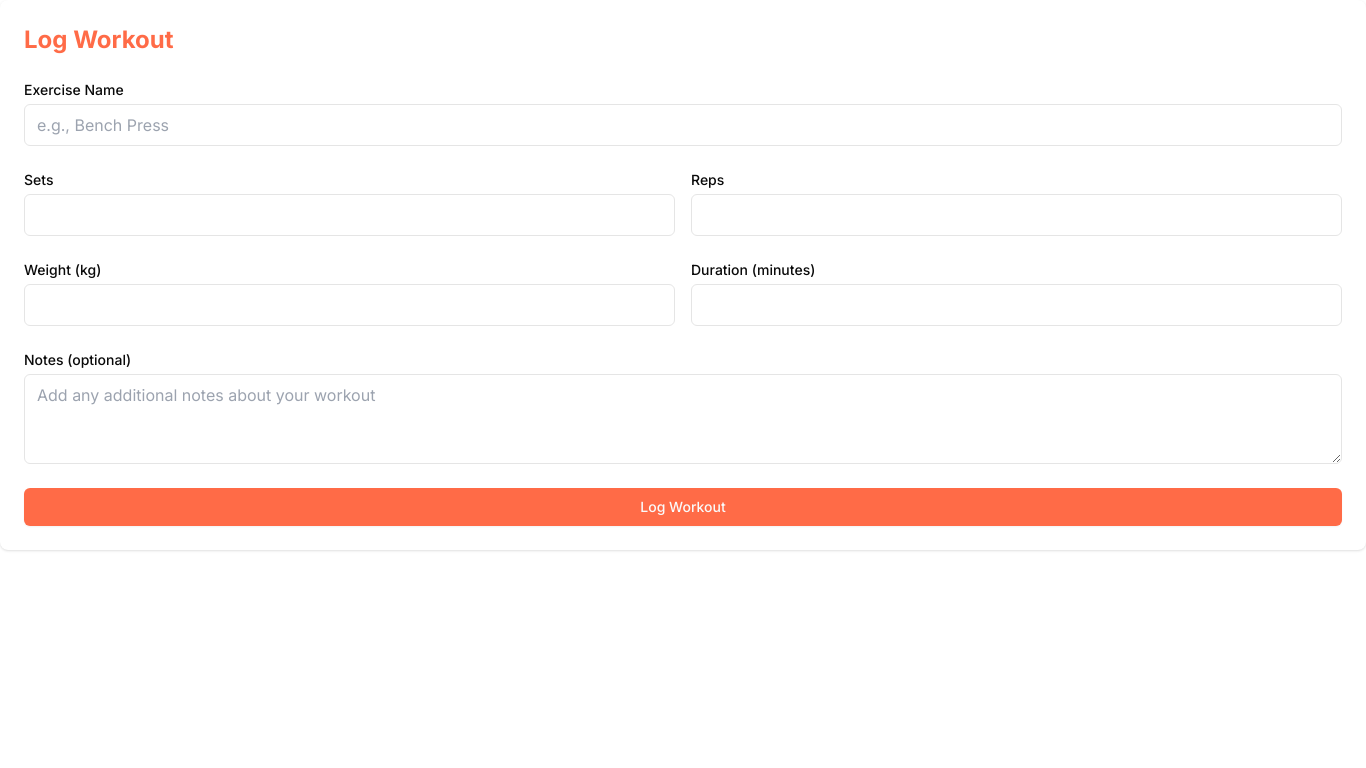
Scenario: WorkoutLog › handles successful form submission
In the field labelled "Exercise Name": [683, 125] box [24,104,1342,146], type "Bench Press"
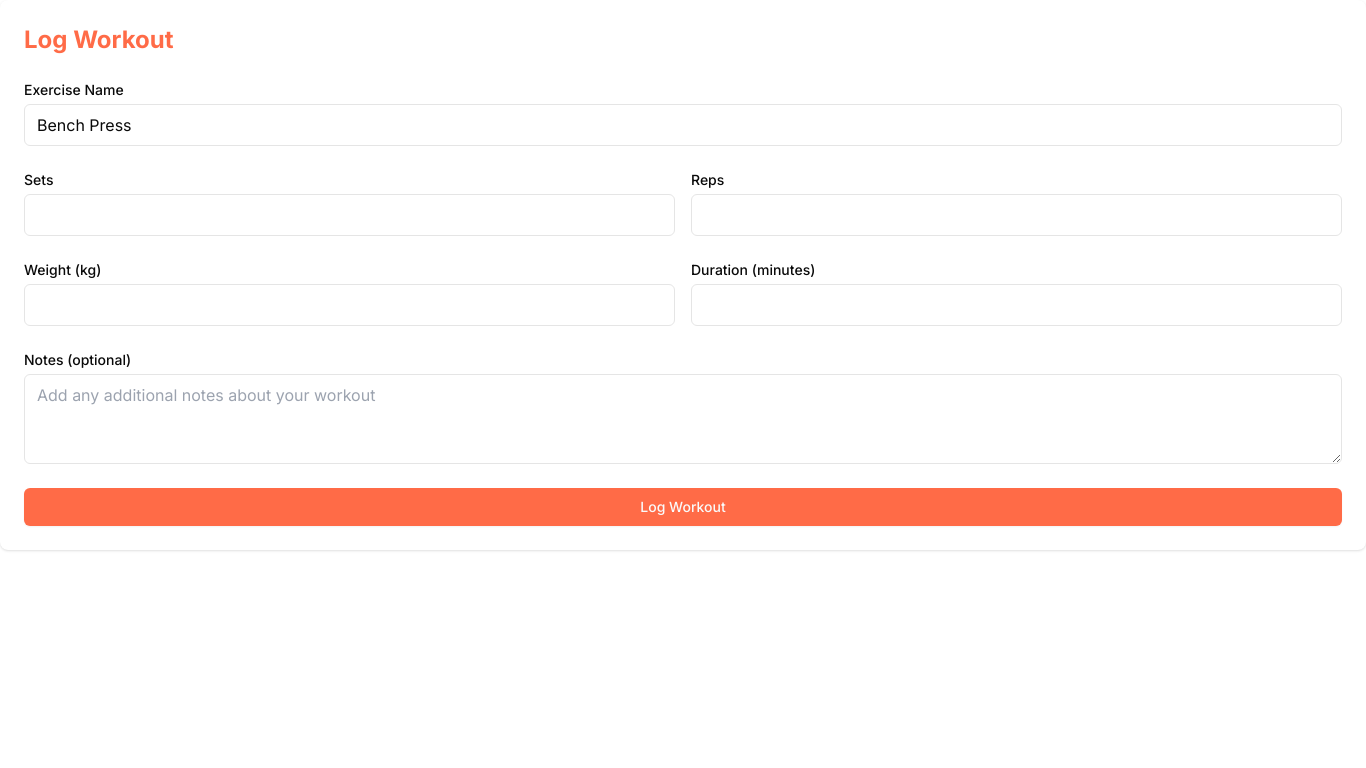
In the number field labelled "Sets": [350, 215] box [24,194,675,236], type "3"
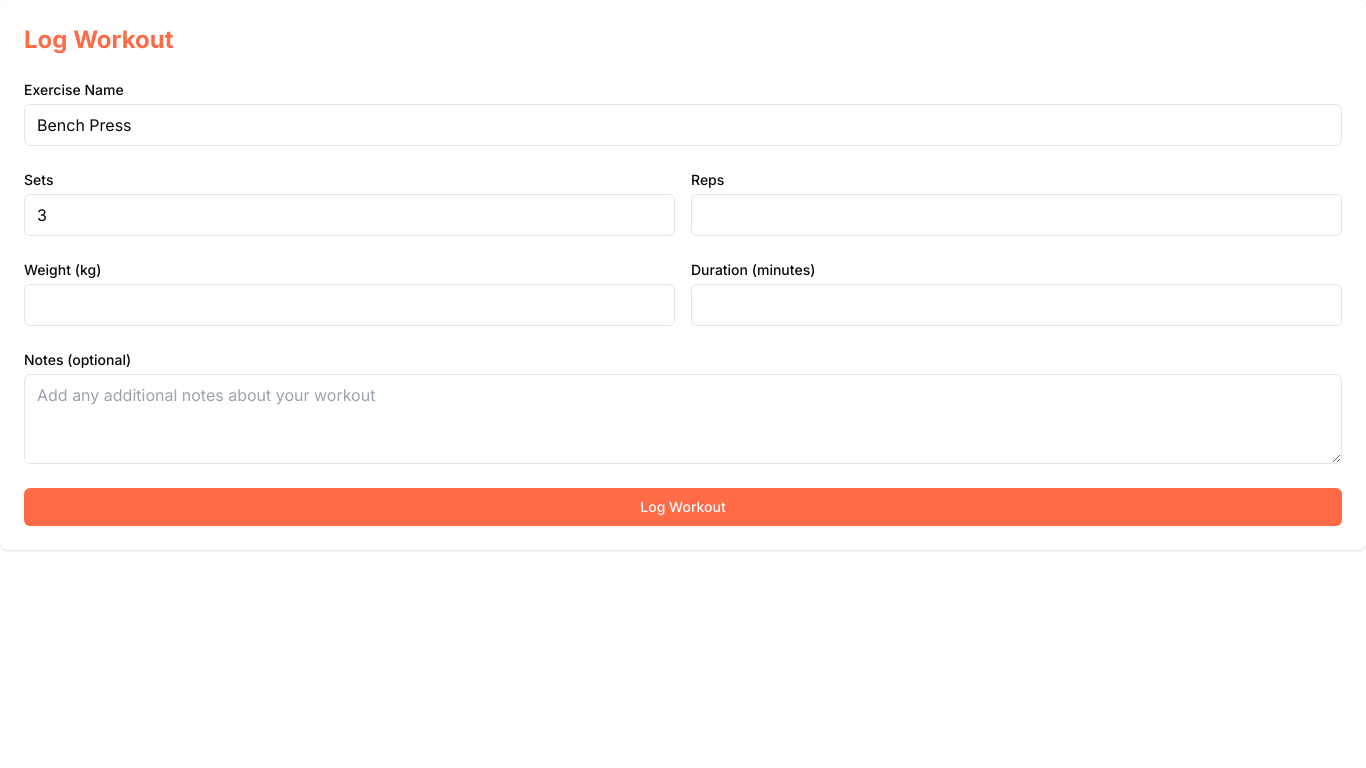
In the number field labelled "Reps": [1016, 215] box [691,194,1342,236], type "10"
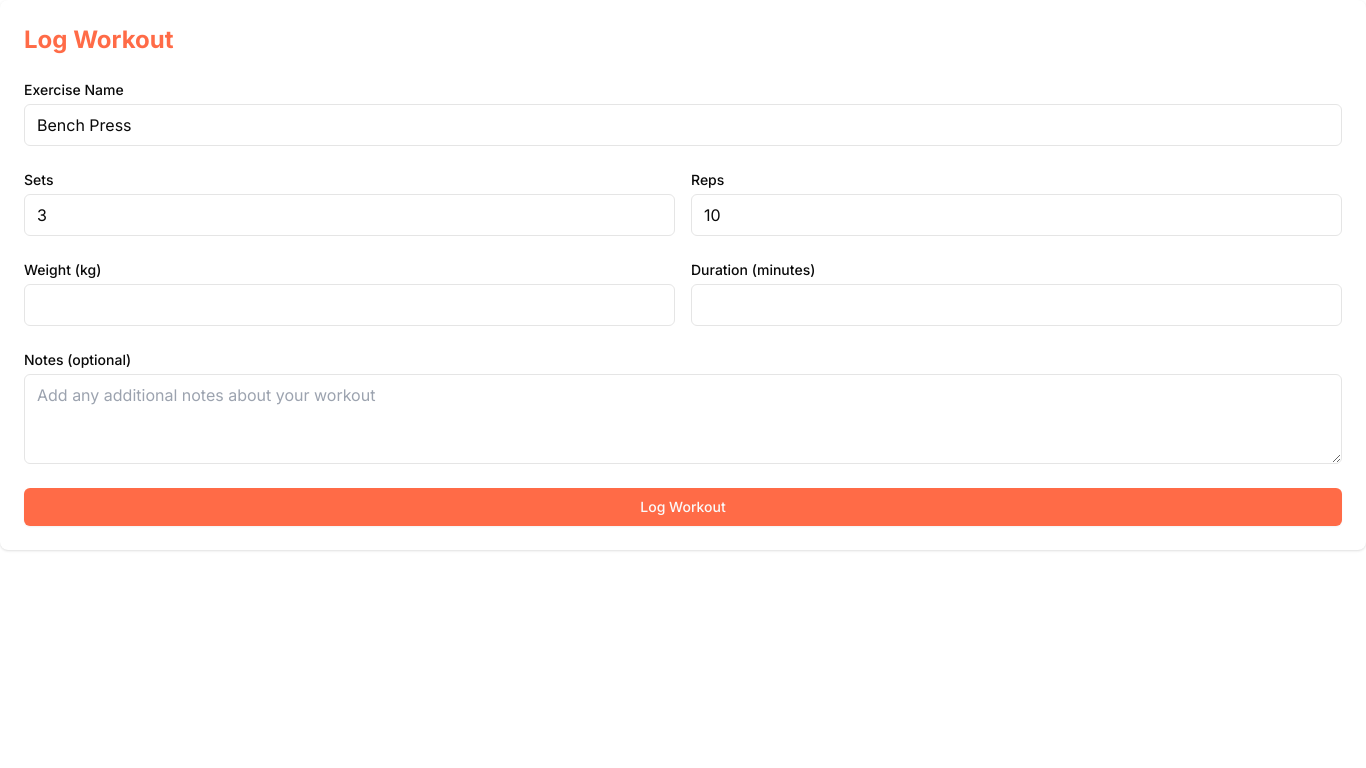
In the number field labelled "Weight (kg)": [350, 305] box [24,284,675,326], type "100"
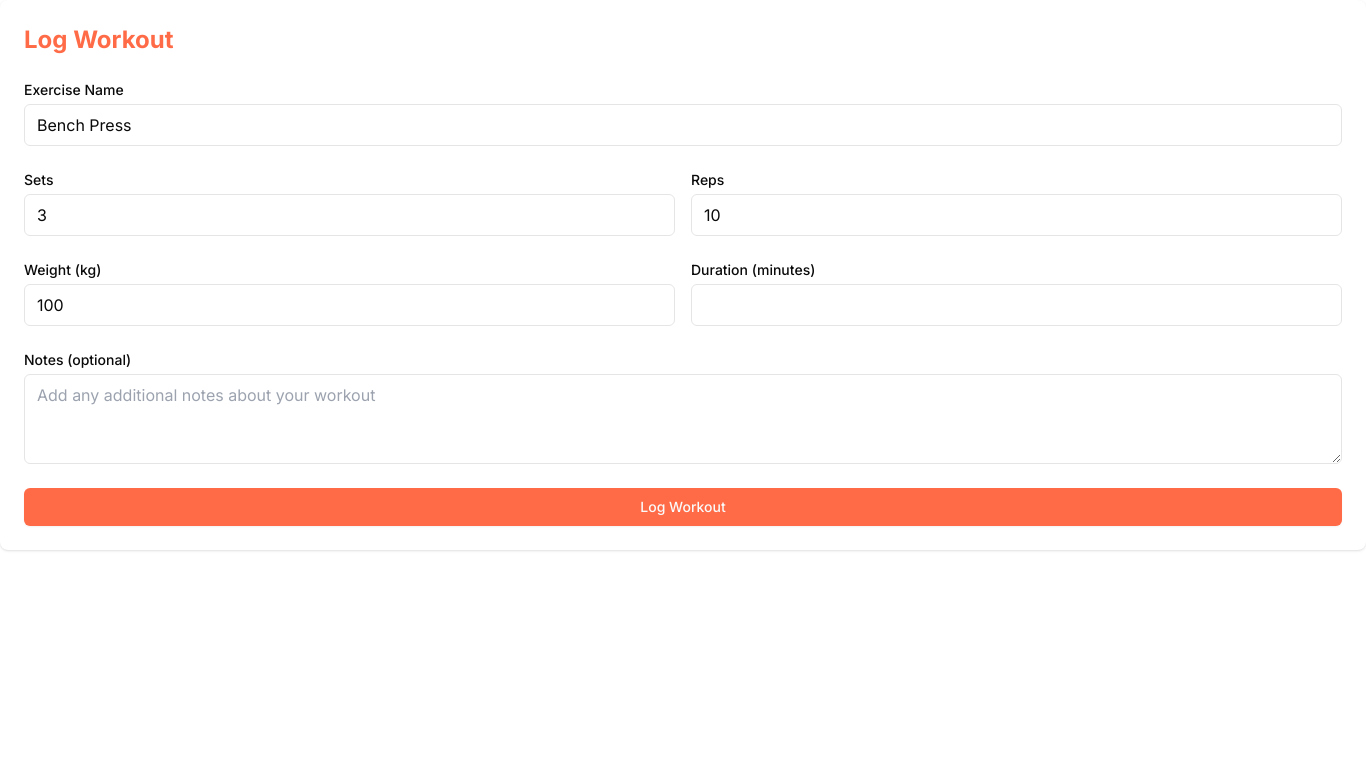
In the number field labelled "Duration (minutes)": [1016, 305] box [691,284,1342,326], type "30"
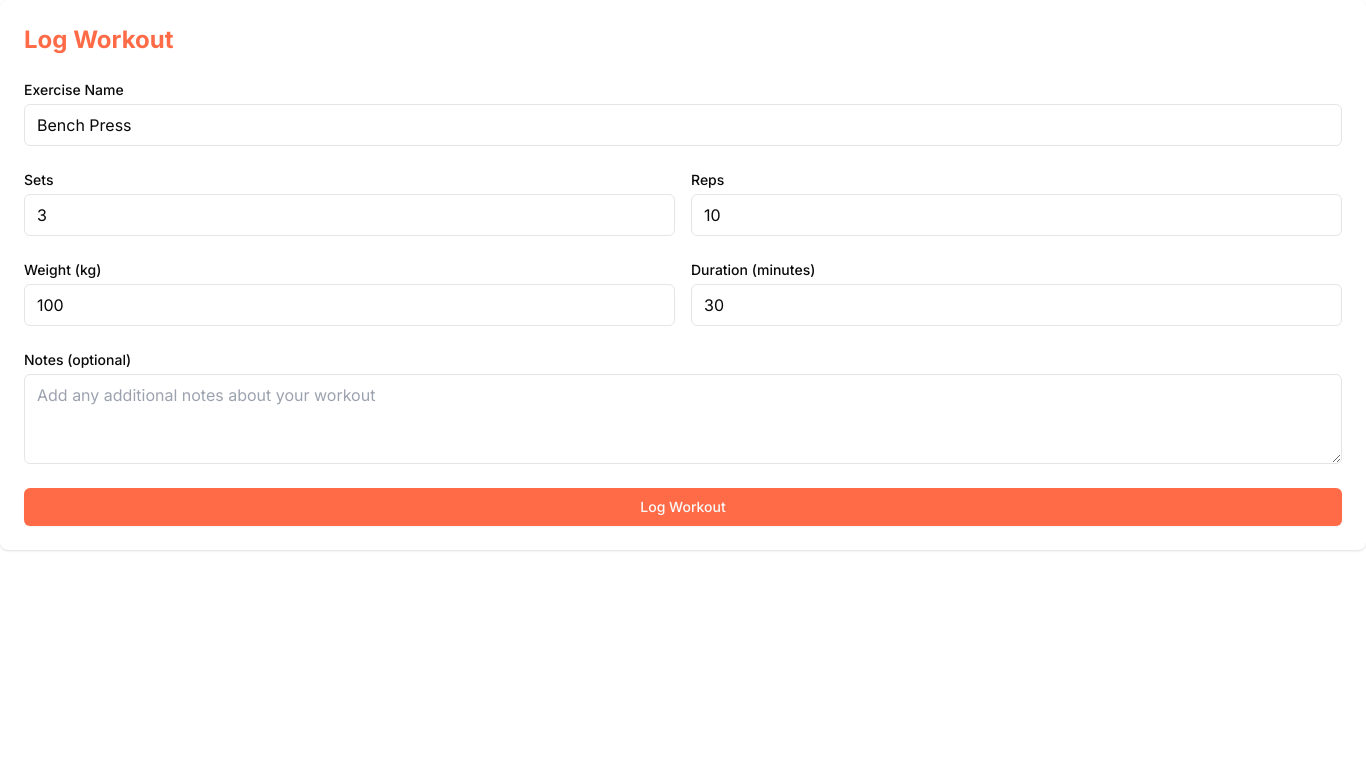
Click the button "Log Workout": [683, 507] box [24,488,1342,526]
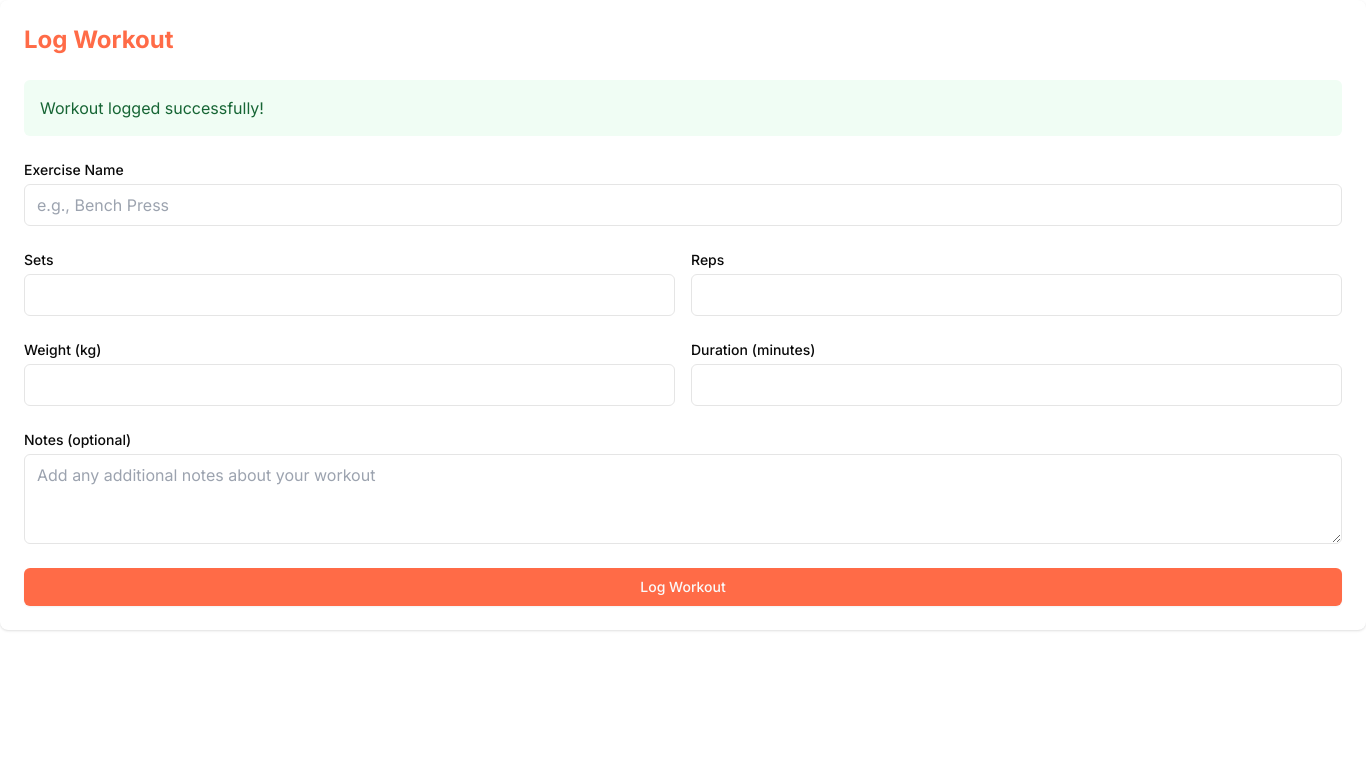
Check: the text "Workout logged successfully!" is shown, box [24,80,1342,136]
